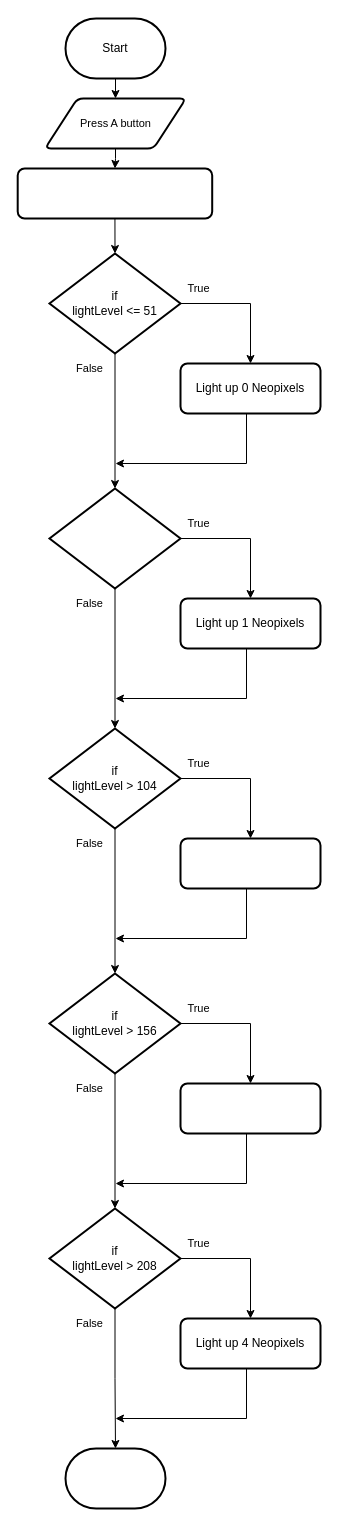
The diagram is 339 pixels wide and 1526 high, and some of its shapes have lost their labels. The centre of each missing label's shape, as x and y in pixels:
"if lightLevel > 52" belongs at pixel 114 538.
"Light up 2 Neopixels" belongs at pixel 250 863.
"Light up 3 Neopixels" belongs at pixel 250 1108.
"lightLevel = input.lightLevel()" belongs at pixel 114 193.
"Stop" belongs at pixel 115 1478.
